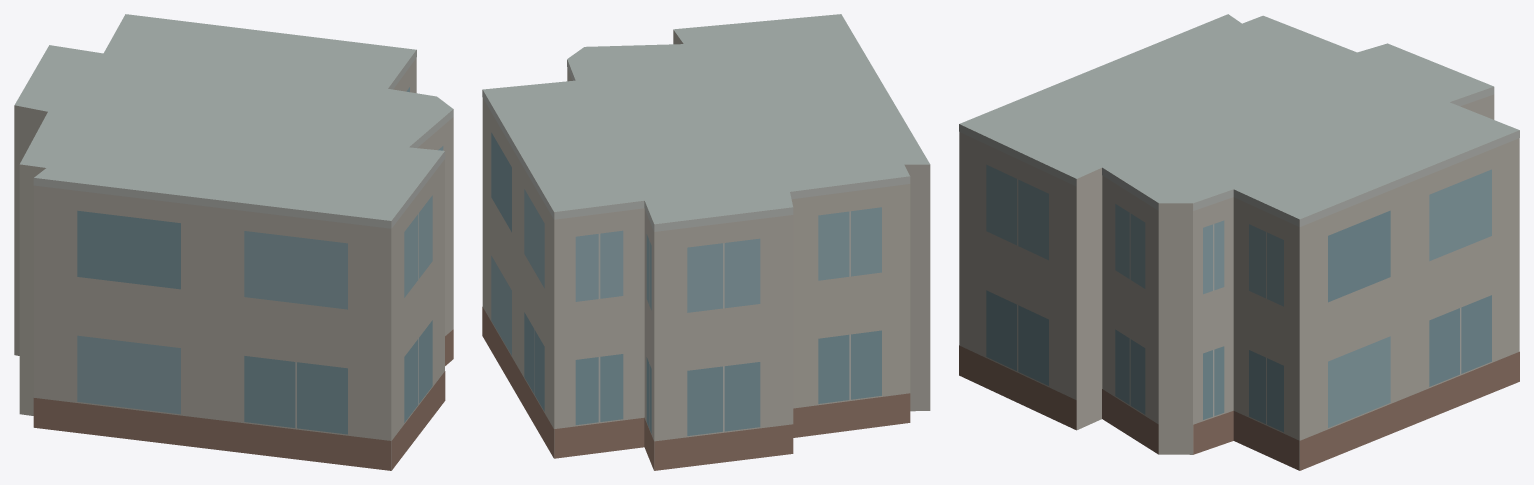
File: survey-upis-33006418.glb
The picture shows the model from 3 angles, left to right: view 1: azimuth 30°, elevation 25°; view 2: azimuth 150°, elevation 25°; view 3: azimuth 270°, elevation 25°; orthographic projection. The views are drawn at different scales.
Visible parts, largest first — view 1: survey-upis-33006418.tmp; view 2: survey-upis-33006418.tmp; view 3: survey-upis-33006418.tmp.
Part boxes in pixels (box(x1,y1,x2,y2)): survey-upis-33006418.tmp: box(14, 14, 453, 470); survey-upis-33006418.tmp: box(482, 14, 930, 470); survey-upis-33006418.tmp: box(959, 14, 1519, 470).
Bounding box in the file's own units: 13.85 × 7.9 × 15.97.
